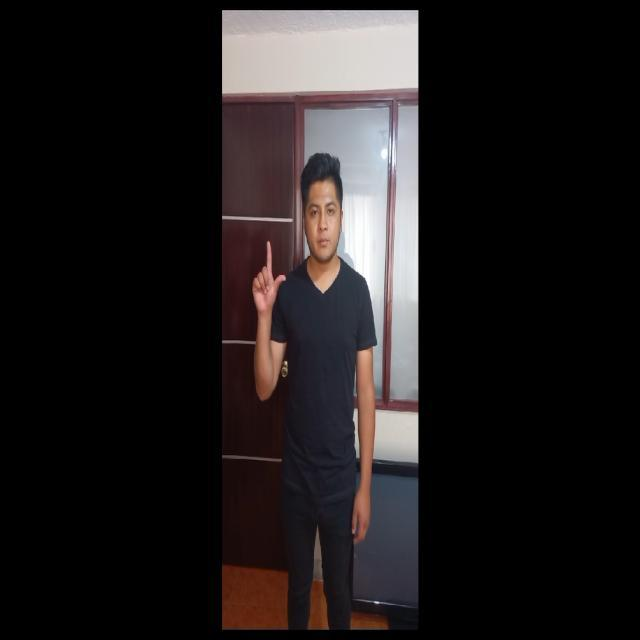L: (249, 230, 289, 318)
